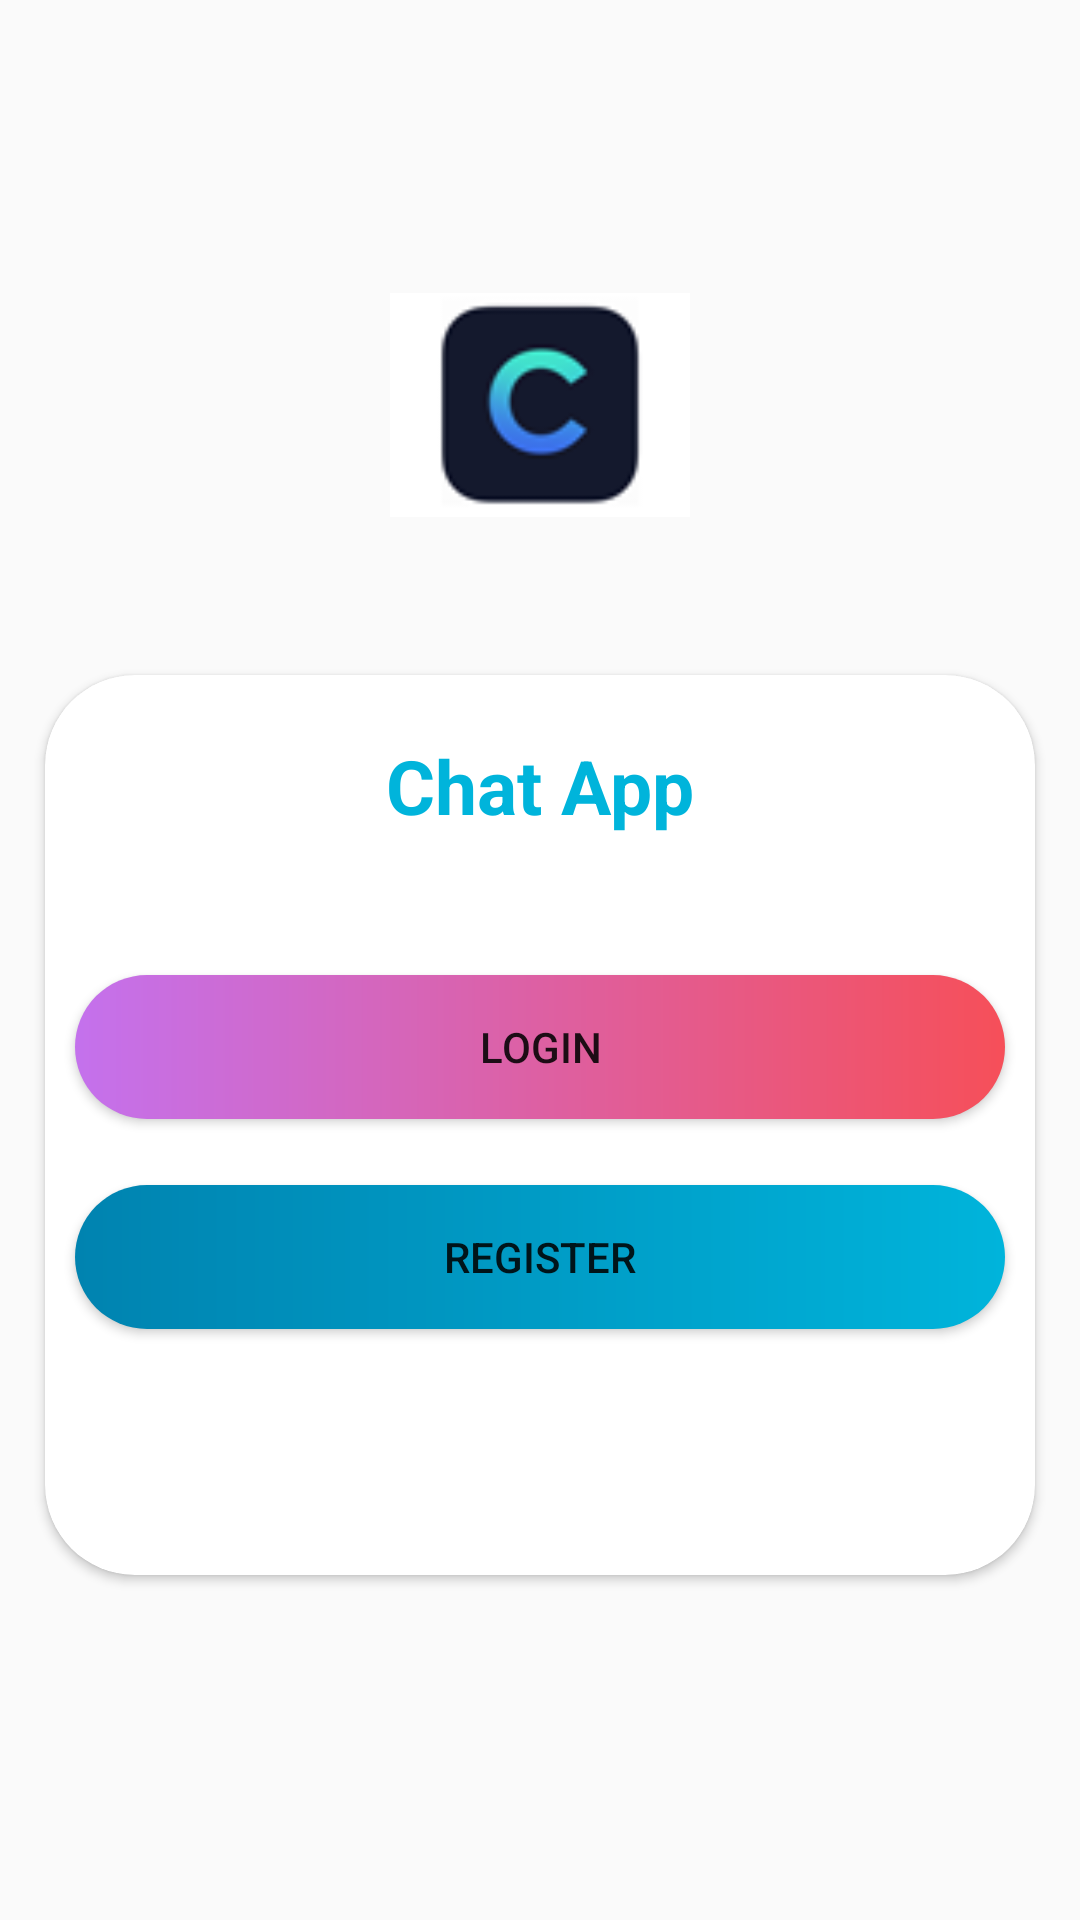

Icon bounding boxes for this 1080 × 1920 phone screenshot, format [x1, y1, x2, y2]:
appicon: [440, 305, 640, 504]
